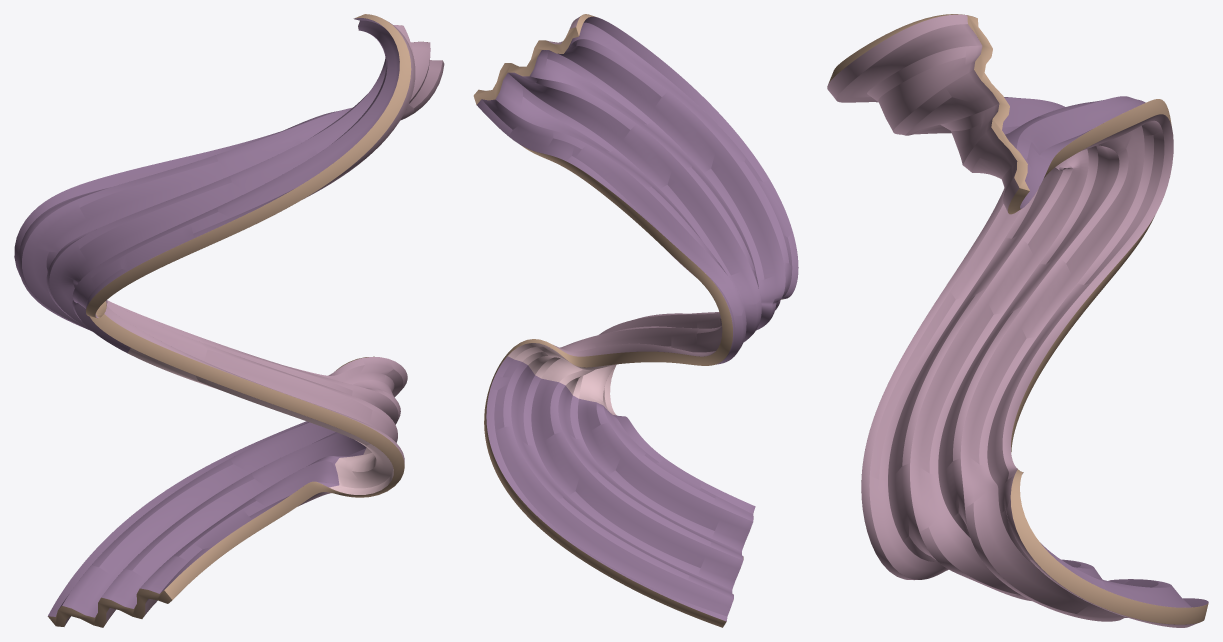
Rendered from shear-cascade.glb.
3 views of the same model, side by side, from view 1: azimuth 30°, elevation 25°; view 2: azimuth 150°, elevation 25°; view 3: azimuth 270°, elevation 25° (orthographic). The views are drawn at different scales.
Visible parts, largest first — view 1: one_piece_shear_cascade; view 2: one_piece_shear_cascade; view 3: one_piece_shear_cascade.
Part boxes in pixels (bbox=[...]): one_piece_shear_cascade: bbox=[14, 14, 444, 627]; one_piece_shear_cascade: bbox=[473, 14, 798, 627]; one_piece_shear_cascade: bbox=[827, 14, 1208, 627].
Size of the model in its own units: 134 by 208 by 95.73.
